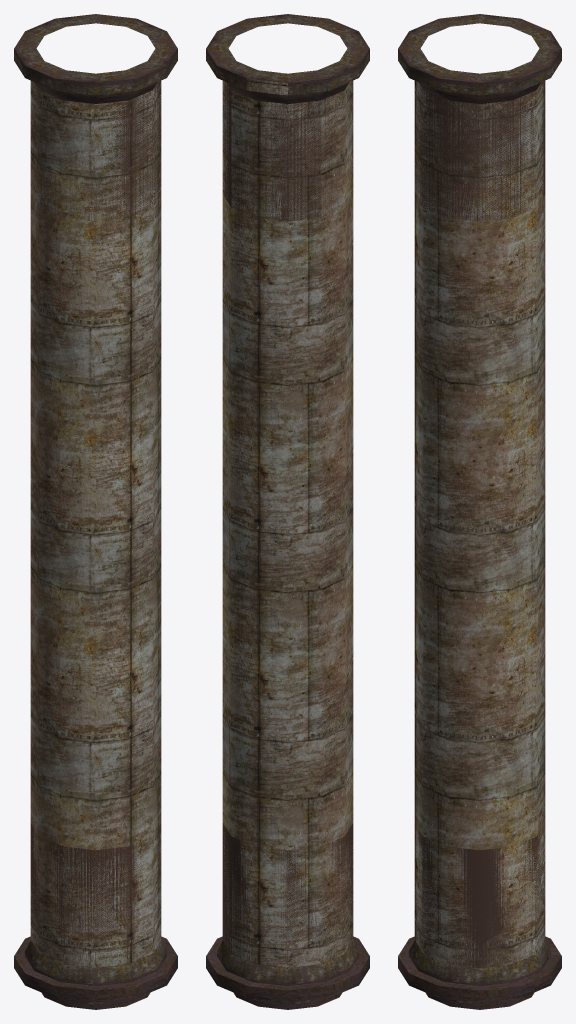
The model's file is railpipe01.glb.
3 views of the same model, side by side, from view 1: azimuth 30°, elevation 25°; view 2: azimuth 150°, elevation 25°; view 3: azimuth 270°, elevation 25° (orthographic).
Bounding box in the file's own units: 82.76 × 522 × 82.76.
Materials: 3 (3 with a texture image).
